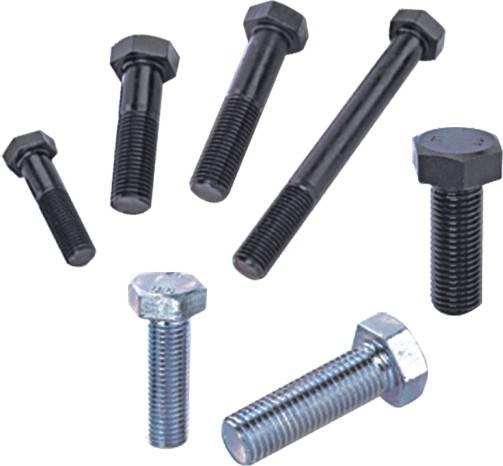screw: (232, 6, 445, 280), (220, 310, 432, 466), (190, 1, 309, 204), (411, 126, 503, 317), (127, 271, 208, 449), (109, 32, 180, 216), (2, 130, 98, 266)
